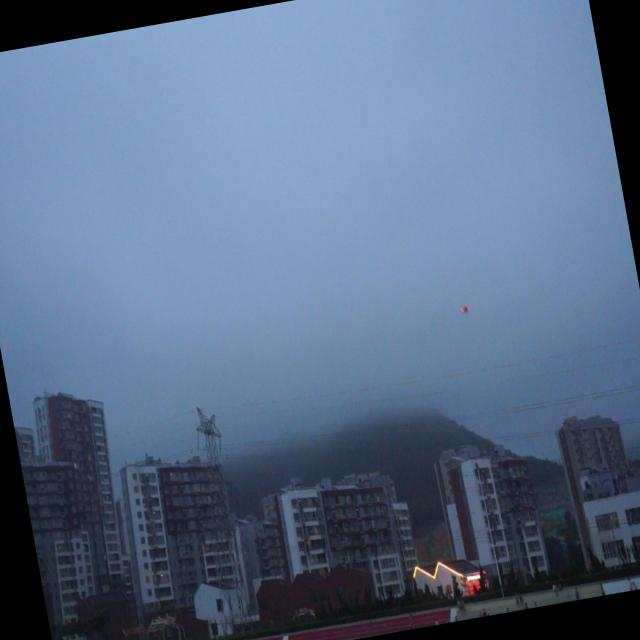drone: (458, 297, 472, 318)
